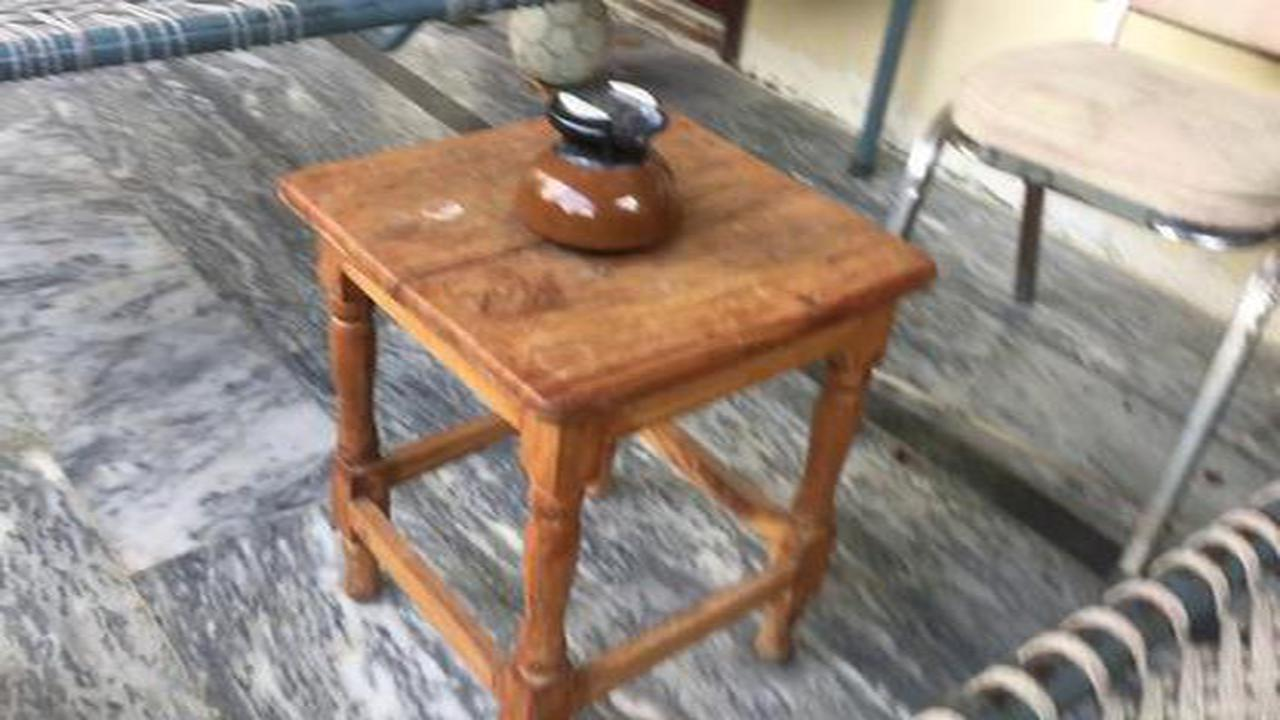insulator_pin: (505, 61, 711, 265)
